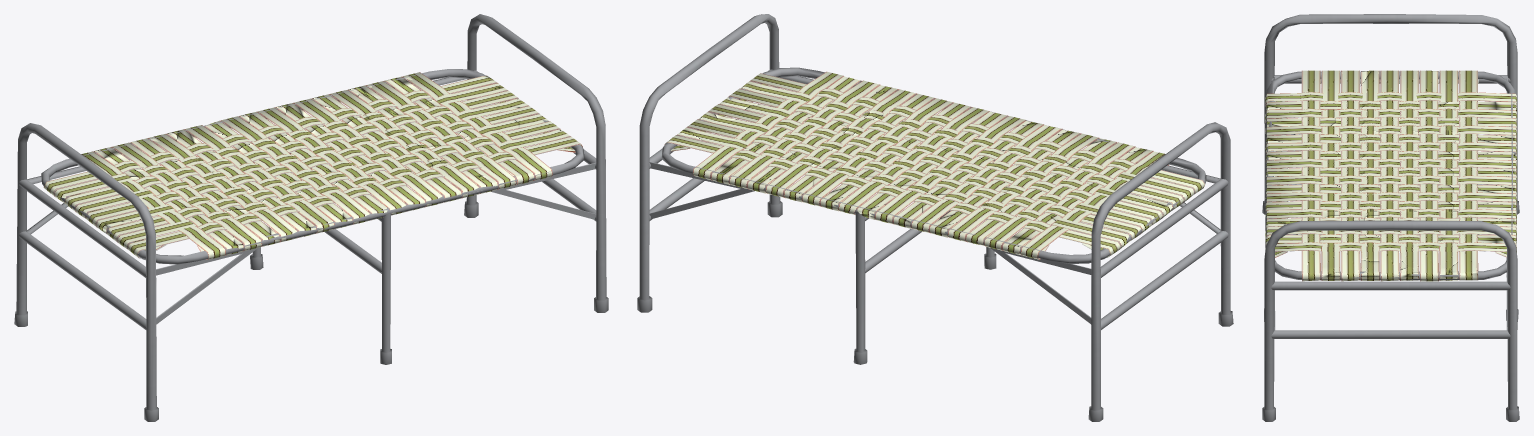
File: charpai_a.glb
3 renders of one model, left to right at view 1: azimuth 30°, elevation 25°; view 2: azimuth 150°, elevation 25°; view 3: azimuth 270°, elevation 25°, orthographic. The views are drawn at different scales.
Visible parts, largest first — view 1: Bed_GEO; view 2: Bed_GEO; view 3: Bed_GEO.
Part boxes in pixels (box(x1,y1,x2,y2)): Bed_GEO: box(14, 14, 608, 421); Bed_GEO: box(637, 14, 1233, 421); Bed_GEO: box(1262, 14, 1519, 421).
Bounding box in the file's own units: 235 × 103 × 121.
Materials: 1 (1 with a texture image).
